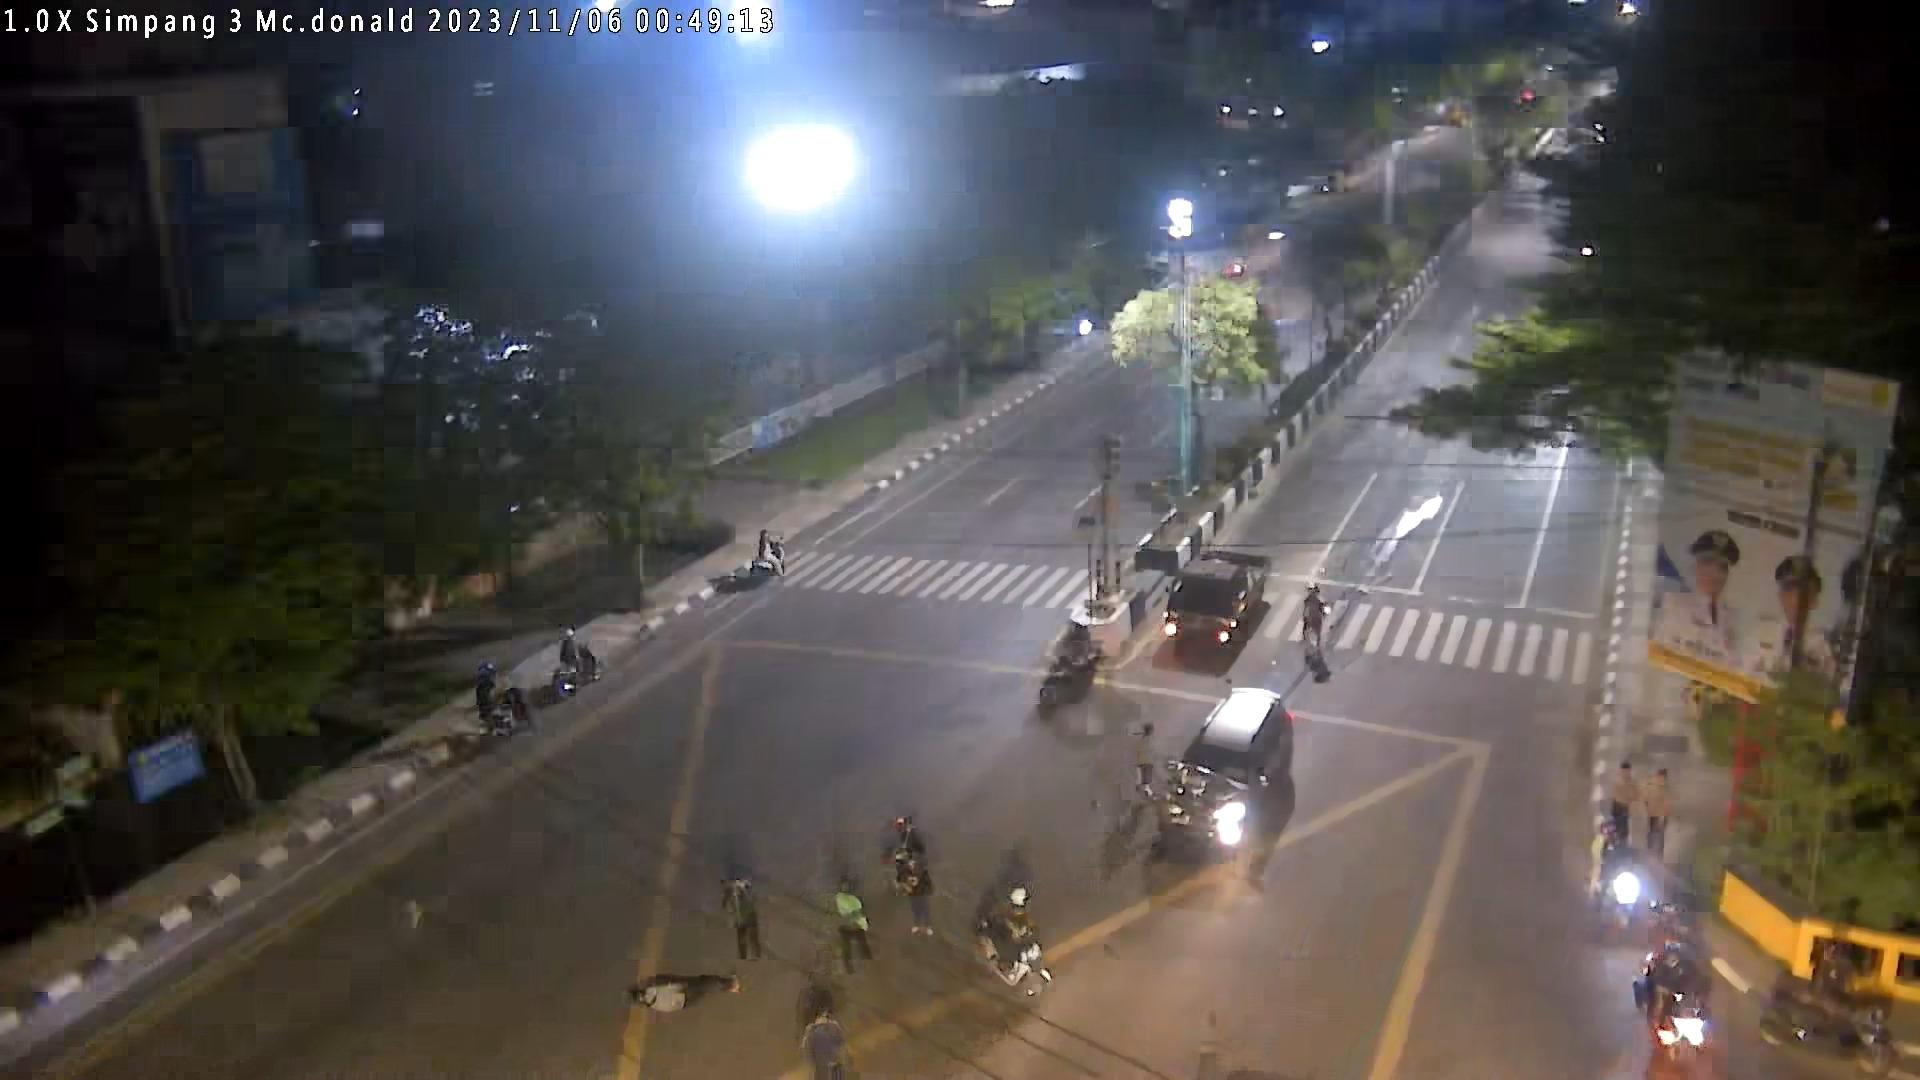accident: (629, 972, 742, 1014)
